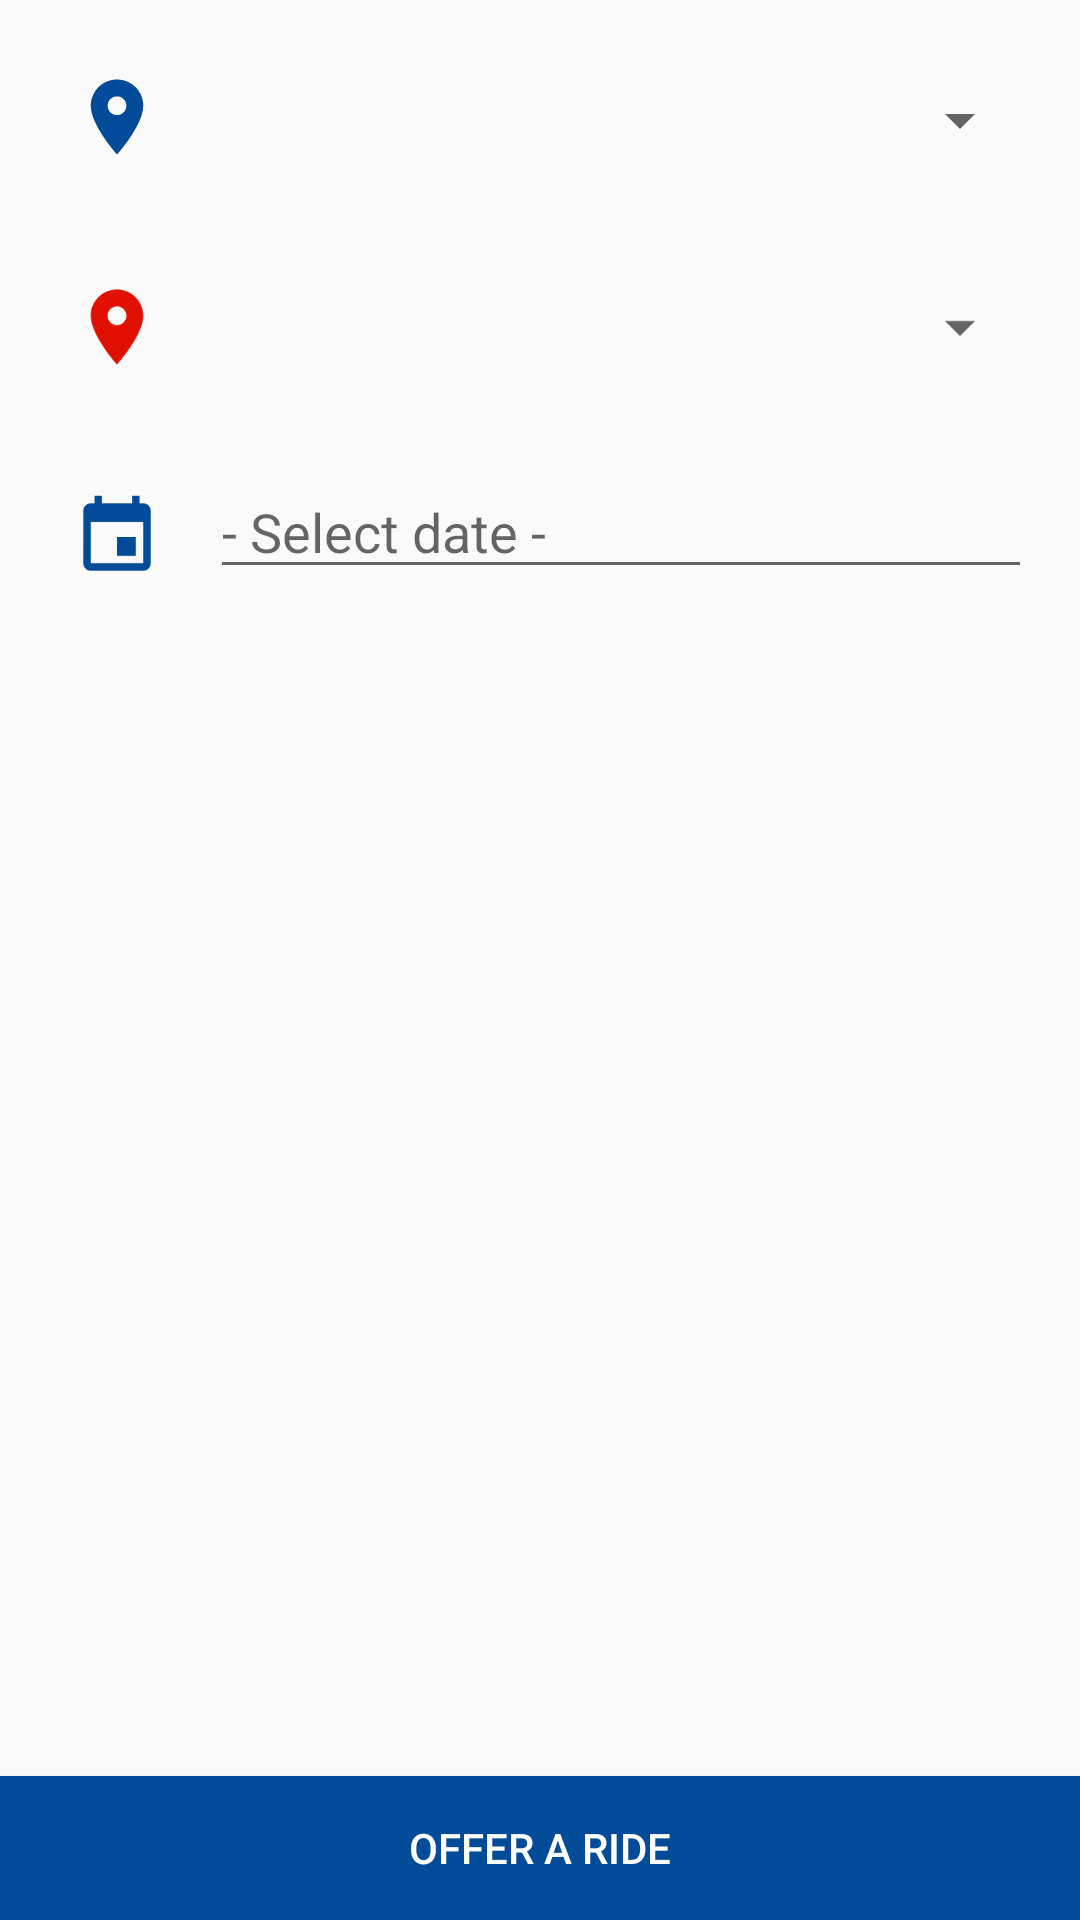

Locate icon controls on the screen. Image size 1080w x 1920h, boxes as (x1, y1, x2, y2).
date time: (83, 495, 151, 571)
from location: (90, 79, 144, 154)
to location: (90, 289, 144, 365)
